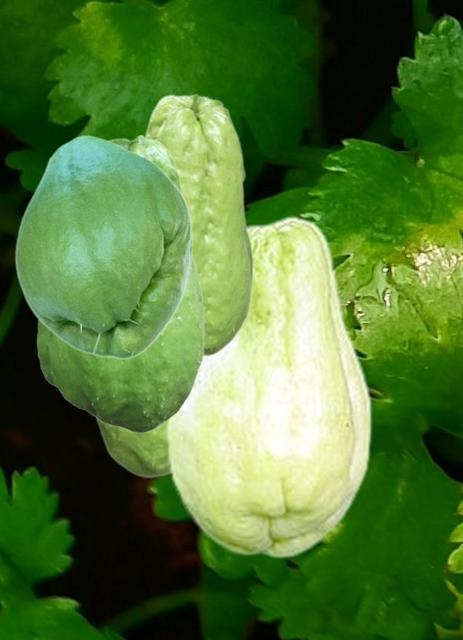sayote: (165, 215, 371, 558), (36, 134, 204, 432), (14, 135, 192, 359), (144, 93, 254, 358), (95, 418, 168, 478)
